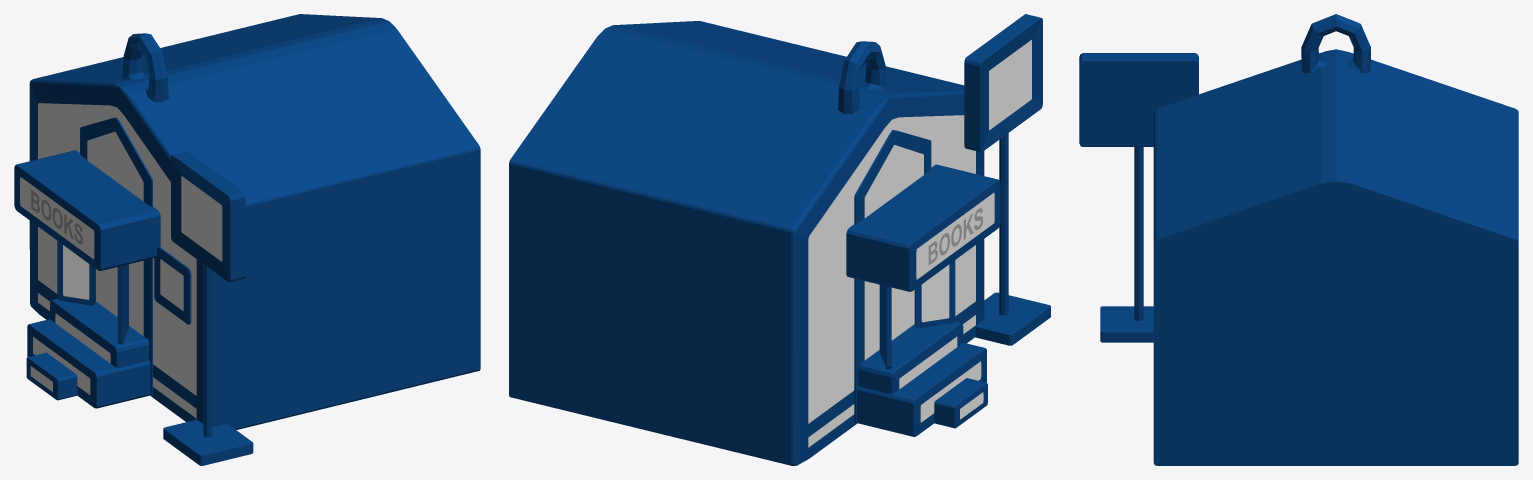
The model's file is village.dae.
3 renders of one model, left to right at view 1: azimuth 30°, elevation 25°; view 2: azimuth 150°, elevation 25°; view 3: azimuth 270°, elevation 25°, orthographic. The views are drawn at different scales.
Visible parts, largest first — view 1: cube12, cube14, cube15, cube13, cube20, cube19, cube22, cube16, torus1, cube18, cube21, cylinder1 (+2 smaller); view 2: cube12, cube14, cube15, cube13, cube20, cube19, cube22, torus1, cube17, cube21, cylinder1, cube18 (+1 smaller); view 3: cube12, cube15, torus1, cube22, cylinder1.
Part boxes in pixels (x1=…): cube12: x1=29, y1=14, x2=480, y2=429; cube14: x1=14, y1=150, x2=160, y2=270; cube15: x1=171, y1=151, x2=245, y2=282; cube13: x1=80, y1=117, x2=152, y2=395; cube20: x1=27, y1=319, x2=150, y2=408; cube19: x1=50, y1=298, x2=149, y2=368; cube22: x1=163, y1=419, x2=253, y2=465; cube16: x1=154, y1=246, x2=191, y2=324; torus1: x1=122, y1=33, x2=168, y2=102; cube18: x1=57, y1=241, x2=95, y2=305; cube21: x1=26, y1=352, x2=77, y2=400; cylinder1: x1=203, y1=264, x2=212, y2=437; cube12: x1=509, y1=21, x2=984, y2=465; cube14: x1=846, y1=164, x2=1000, y2=291; cube15: x1=964, y1=14, x2=1042, y2=152; cube13: x1=854, y1=130, x2=931, y2=423; cube20: x1=857, y1=342, x2=986, y2=436; cube19: x1=858, y1=321, x2=963, y2=394; cube22: x1=975, y1=292, x2=1050, y2=345; torus1: x1=838, y1=41, x2=886, y2=113; cube17: x1=914, y1=260, x2=955, y2=328; cube21: x1=934, y1=378, x2=987, y2=428; cylinder1: x1=999, y1=133, x2=1008, y2=315; cube18: x1=879, y1=285, x2=891, y2=368; cube12: x1=1153, y1=49, x2=1518, y2=465; cube15: x1=1079, y1=53, x2=1198, y2=146; torus1: x1=1301, y1=14, x2=1370, y2=73; cube22: x1=1100, y1=306, x2=1153, y2=342; cylinder1: x1=1134, y1=147, x2=1143, y2=320.
Size of the model in its own units: 10.3 by 9.4 by 11.25.
